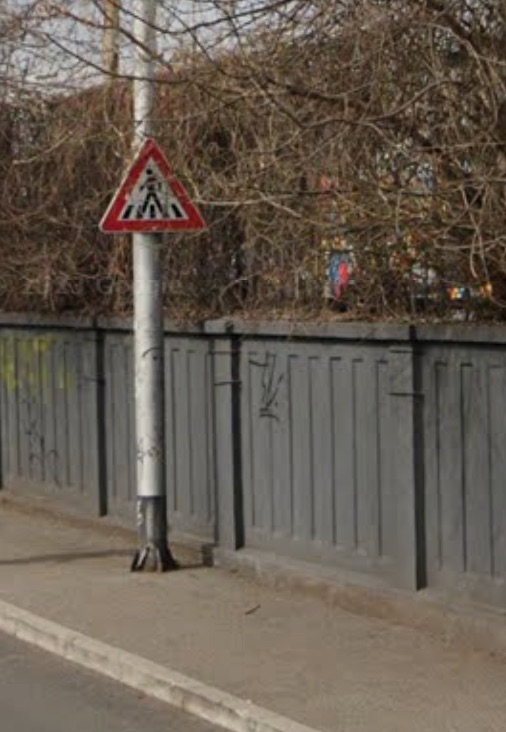Približavanje pješačkom prijelazu: (99, 137, 213, 233)
